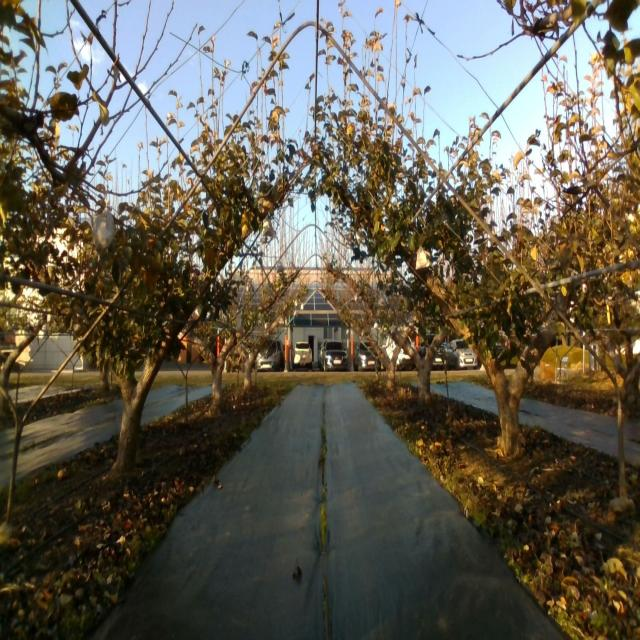pearbags: (94, 198, 116, 250), (416, 247, 429, 270), (261, 218, 275, 237)
